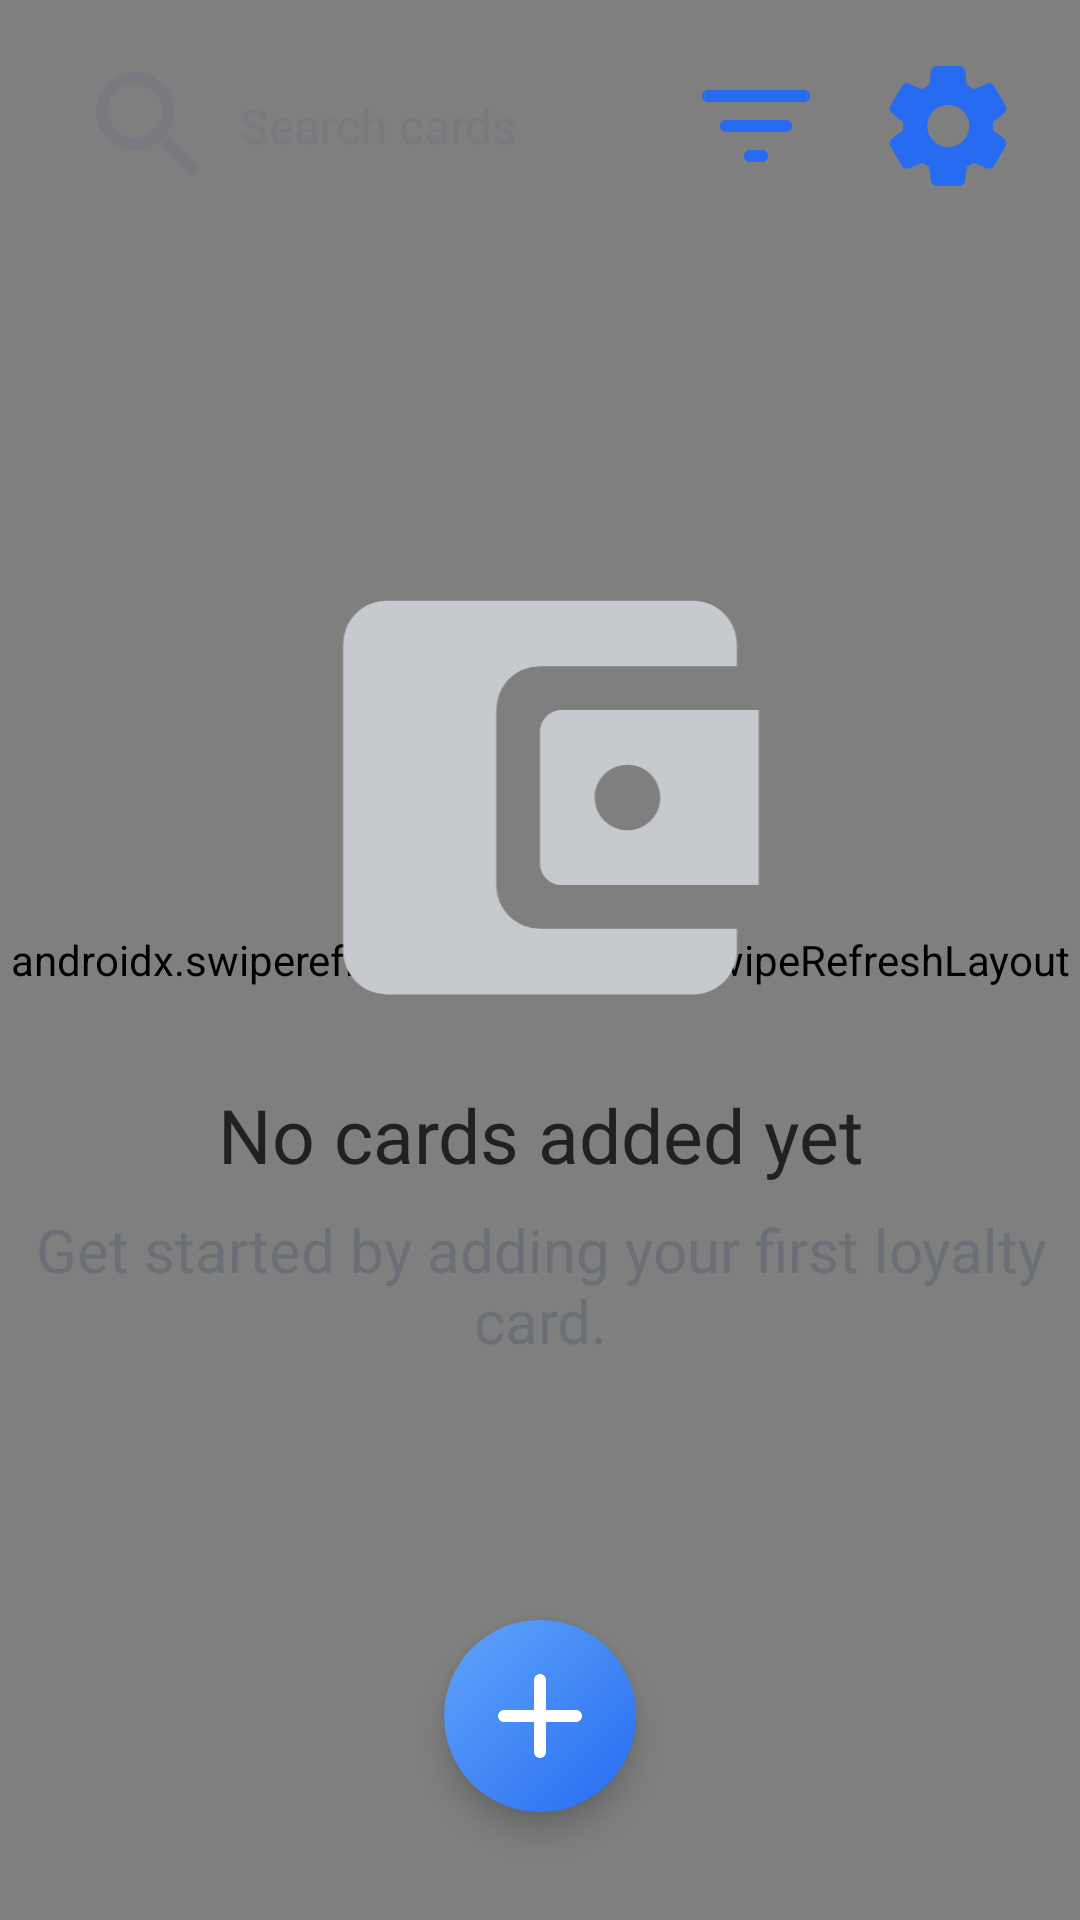

Point at icon controls on the screen. Image size 1080×1920, points as (x,y).
add: (540,1716)
filter: (756,126)
settings: (948,126)
